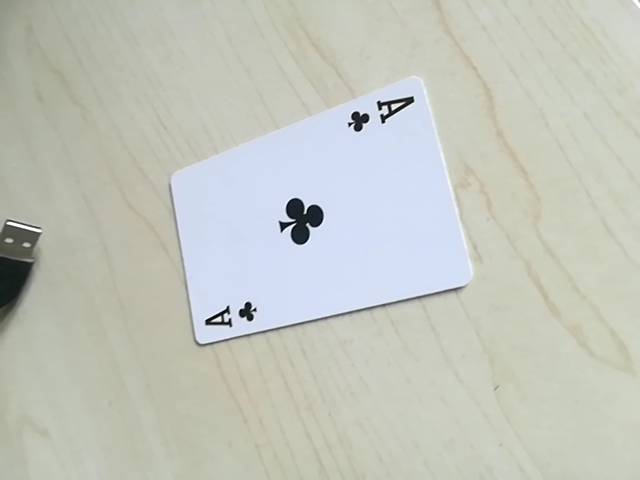mh a: (339, 92, 419, 138), (196, 291, 263, 339)
